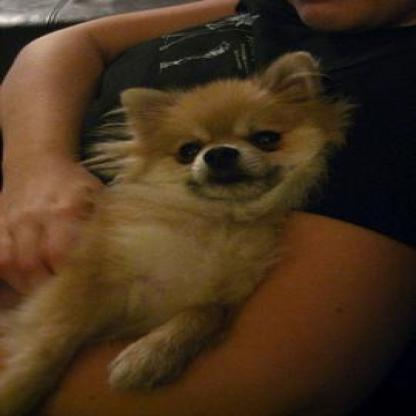Pomeranian: (0, 51, 361, 414)
